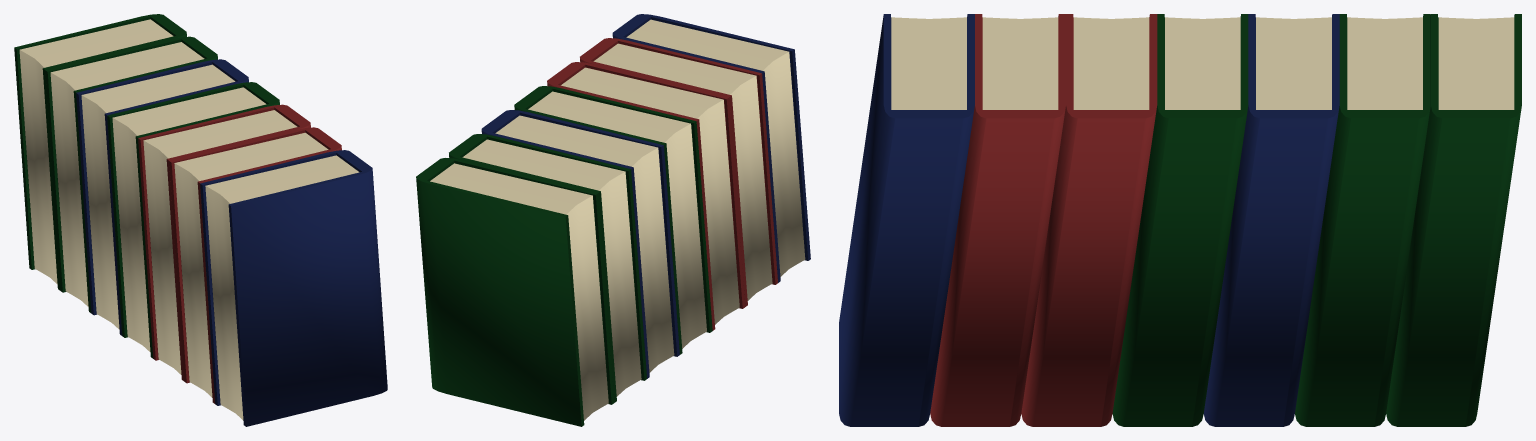
The model's file is SlantedBooks2.fbx.
3 renders of one model, left to right at view 1: azimuth 30°, elevation 25°; view 2: azimuth 150°, elevation 25°; view 3: azimuth 270°, elevation 25°, orthographic. The views are drawn at different scales.
Parts seen in each view (by area): view 1: Books.013; view 2: Books.013; view 3: Books.013.
Part boxes in pixels (x1,y1,x2,y2): Books.013: (14, 14, 387, 426); Books.013: (416, 14, 810, 426); Books.013: (839, 14, 1521, 426).
Size of the model in its own units: 72.62 by 100 by 201.
